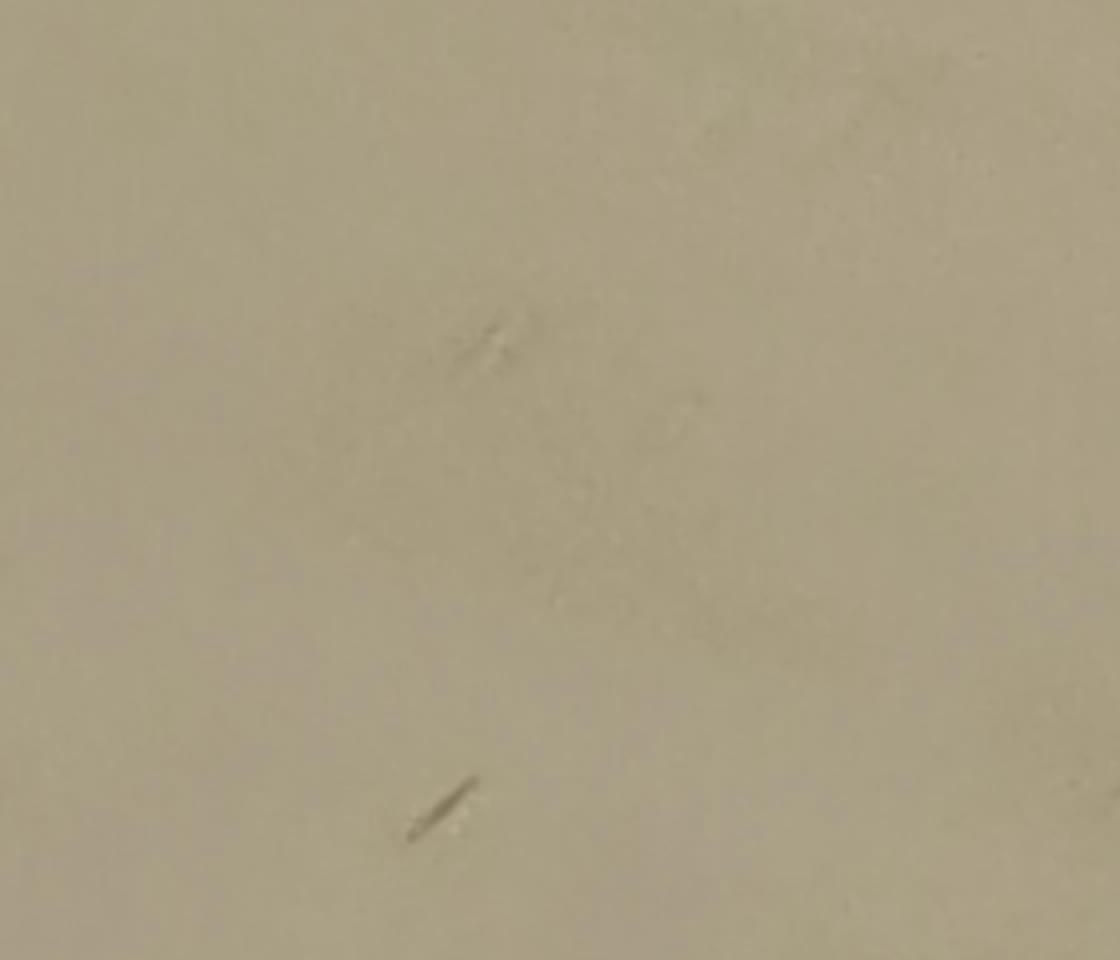scratch: (397, 770, 486, 851)
